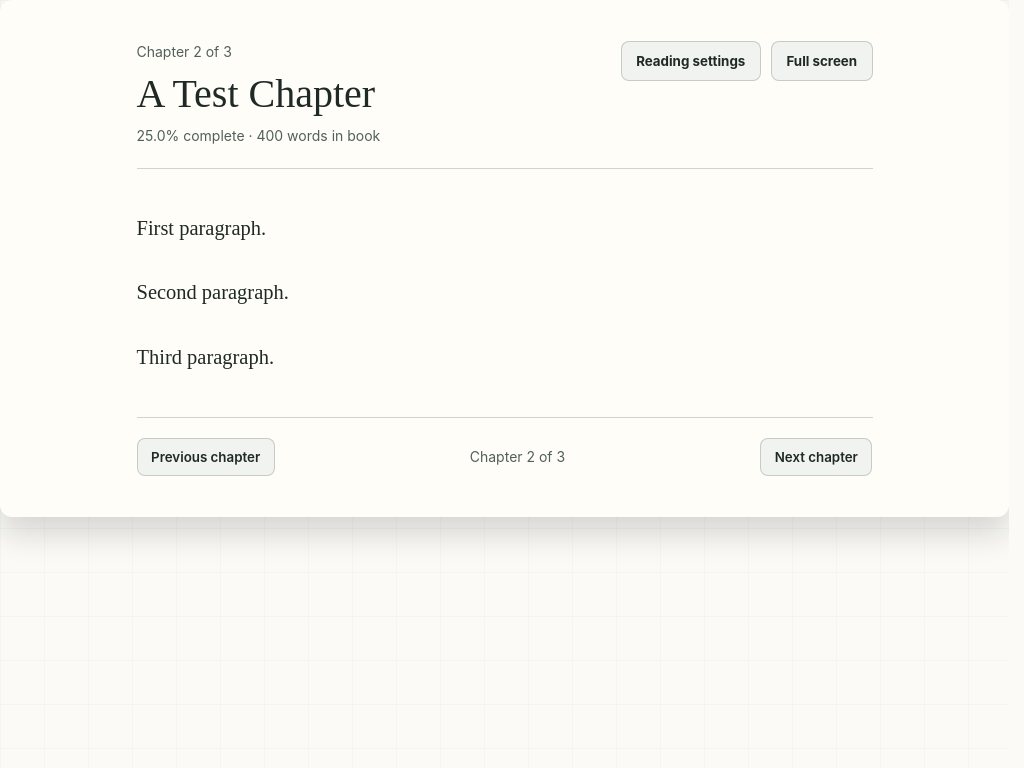
Test case: ImmersiveReader fullscreen › refreshes fullscreen pagination when font or text size changes
This screenshot has width=1024, height=768.
Click the button "Full screen" at (822, 61), box [771,41,872,81]
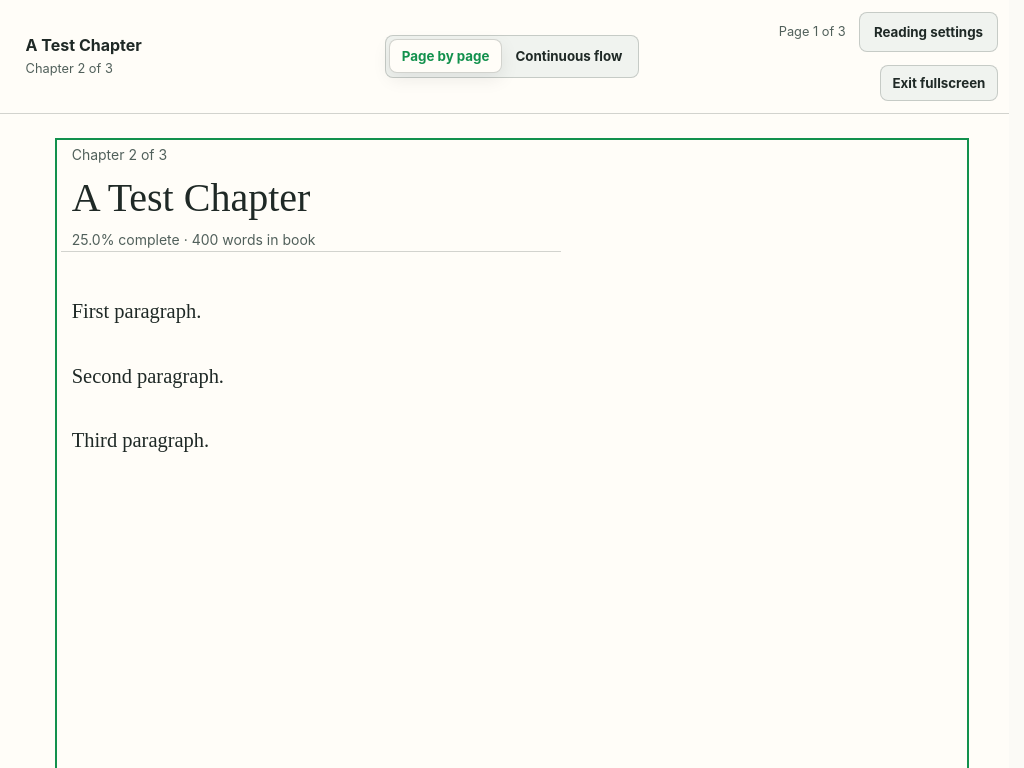
Now the text "Page 1 of 3" is shown, box [779,22,846,42]
Click the button "Reading settings" at (928, 32), box [858,12,998,52]
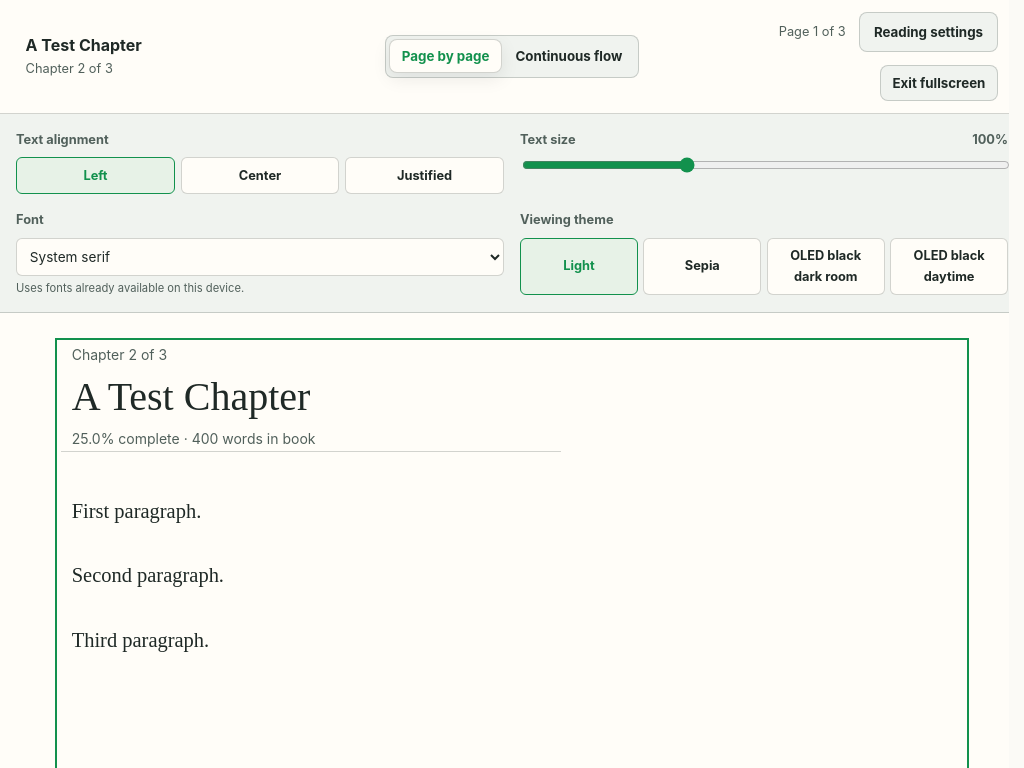
Select "System monospace" in the dropdown labelled "Font" at (260, 257), box [16,238,504,276]
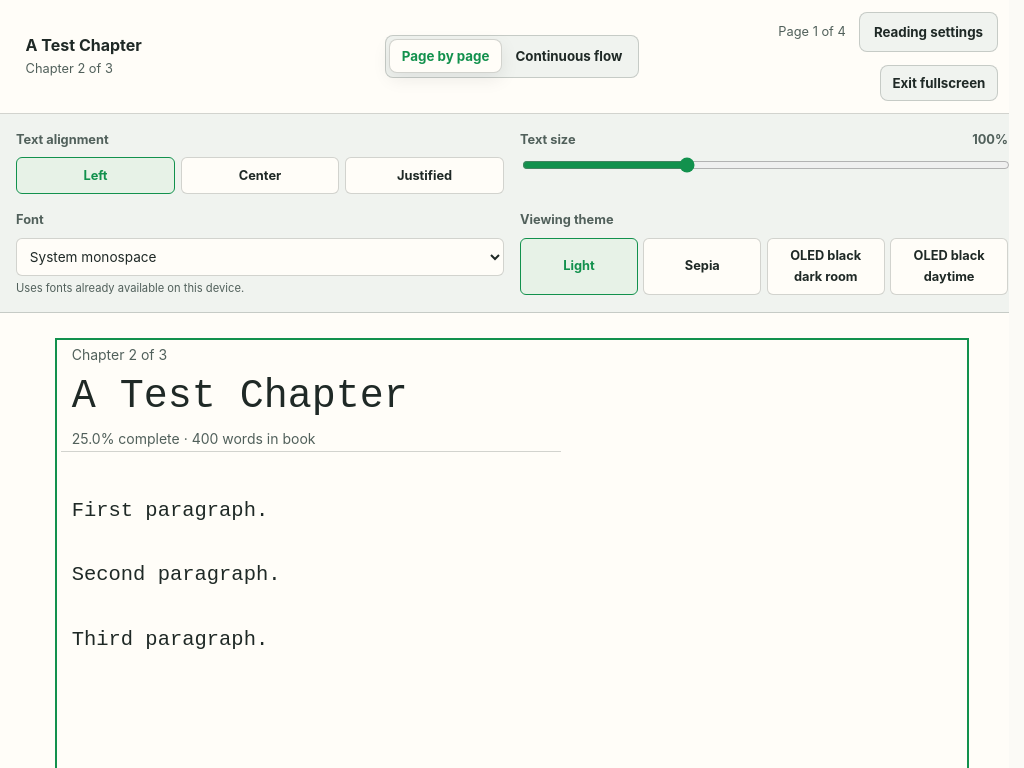
Now the text "Page 1 of 4" is shown, box [778,22,846,42]
